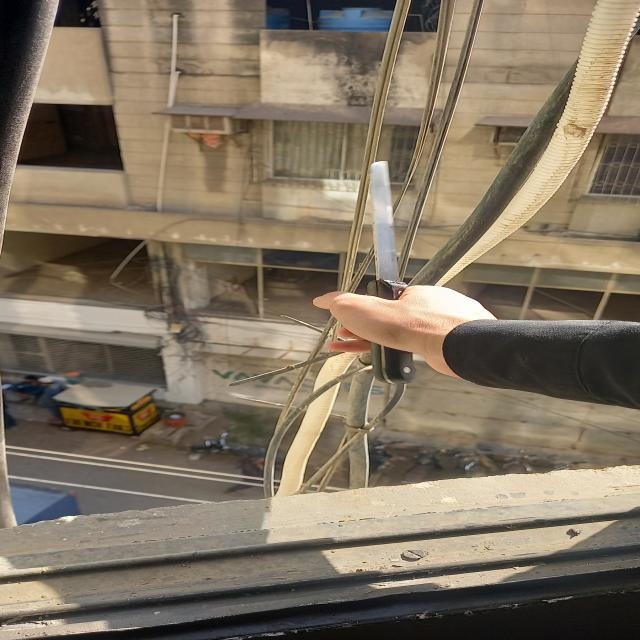weapon: (330, 158, 442, 388)
